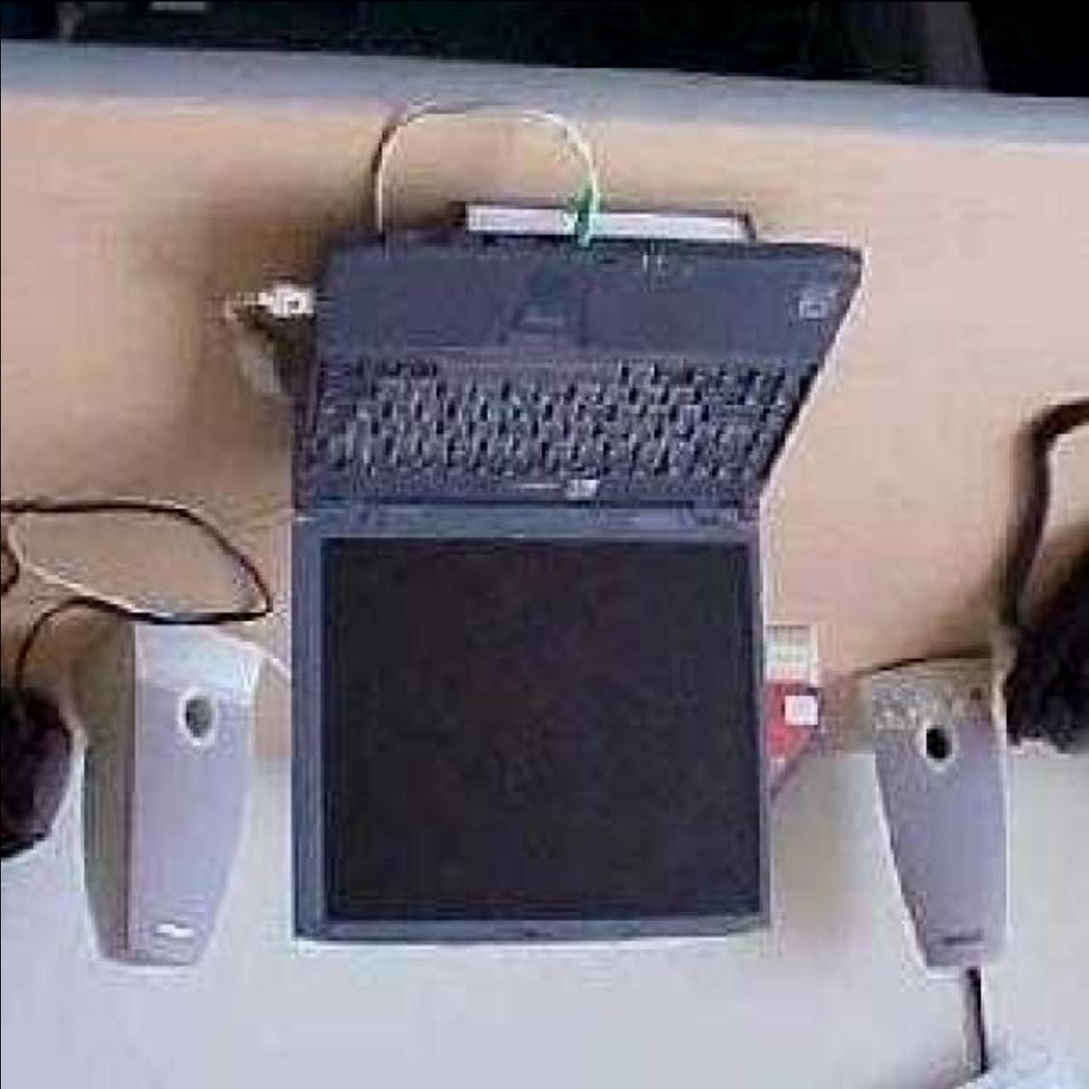laptop: (299, 246, 776, 932)
